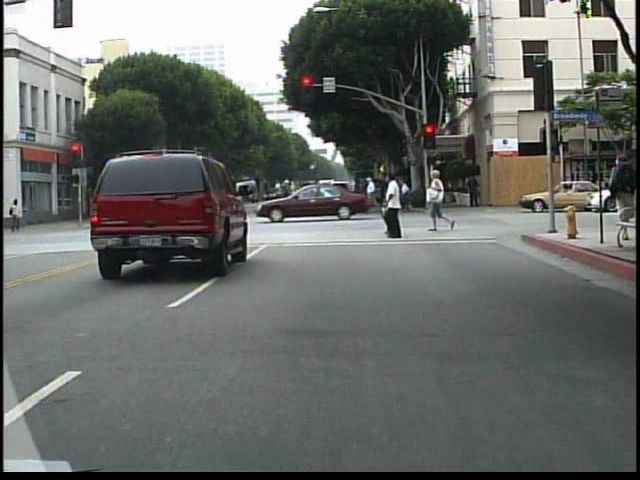person: (379, 173, 416, 244), (427, 170, 461, 235), (605, 146, 637, 209), (378, 174, 397, 238), (363, 173, 385, 219), (467, 168, 486, 211), (145, 187, 162, 232), (350, 178, 372, 210), (125, 190, 141, 231), (397, 176, 414, 212), (8, 198, 25, 233), (2, 200, 16, 235), (277, 176, 295, 200)
